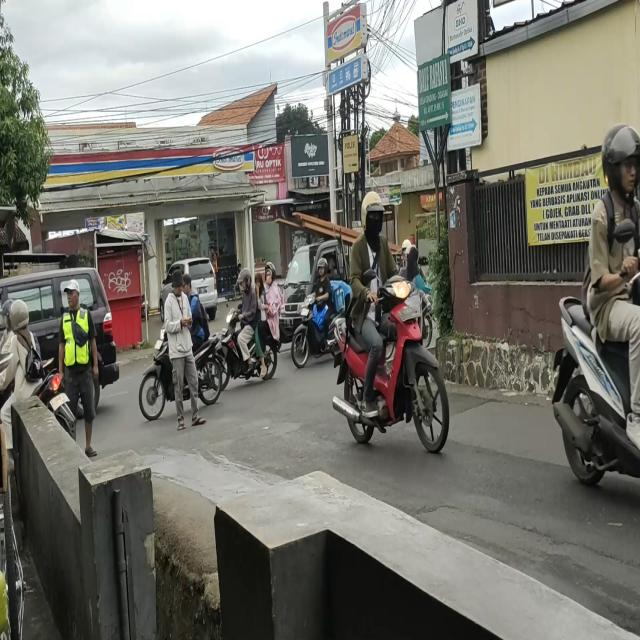helmet: (360, 193, 385, 239), (6, 298, 29, 331), (264, 263, 276, 285), (238, 271, 251, 291), (316, 261, 326, 275)
no-helmet: (182, 275, 194, 295), (254, 272, 264, 292)
